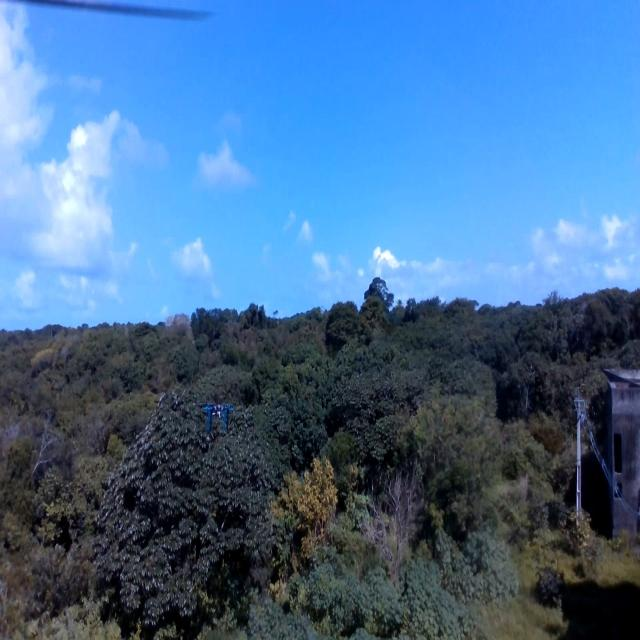-uav-: (200, 386, 238, 454)
